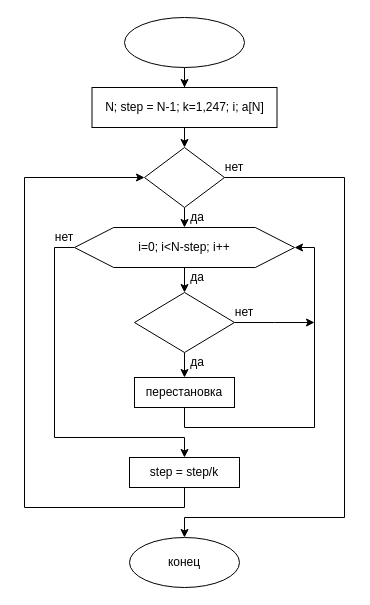
Some shapes in this 370 by 605 pixel diagram are drawn without their labels. The box of each missing label's shape, as (x1, y1, x2, y2) in pixels:
a[i] > a[i+step]: (134, 292, 234, 352)
step>=1: (144, 146, 224, 208)
начало: (124, 16, 244, 68)
